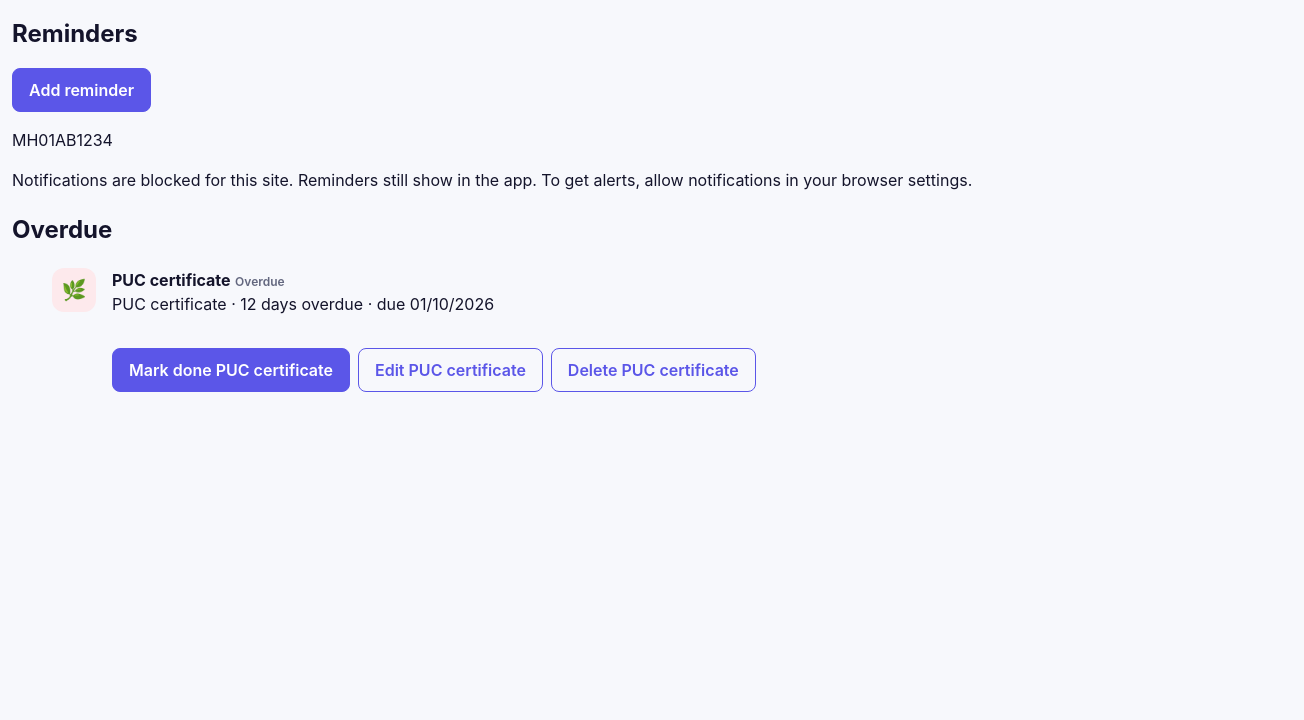
Scenario: Mark done — TC-REM-03 › records ₹100 under PUC certificate, dated today, and marks the reminder done
Click the button "Mark done PUC certificate". click: (231, 370)
box: [112,348,350,392]
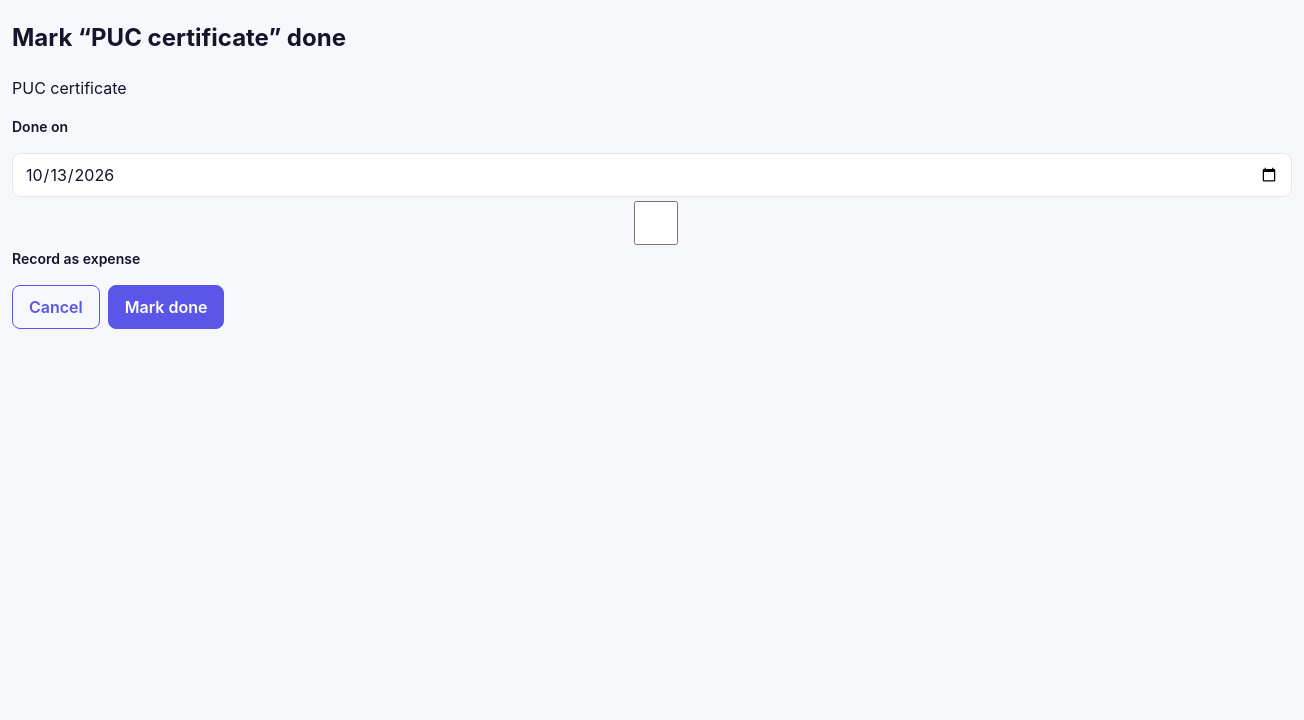
Click the checkbox labelled "Record as expense". click: (654, 223)
box: [16,201,1292,245]
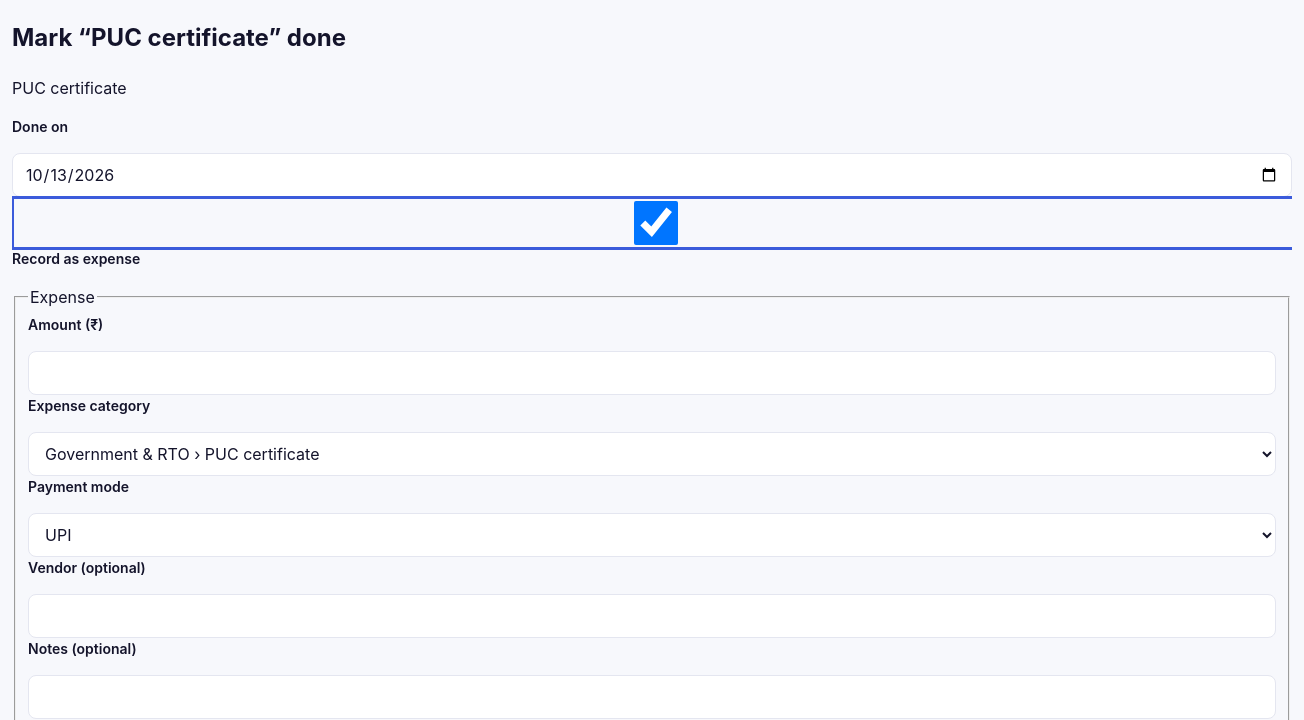
Type "100" into the field labelled "Amount (₹)". click: (652, 373)
box: [28,351,1276,395]
(page scrolled)
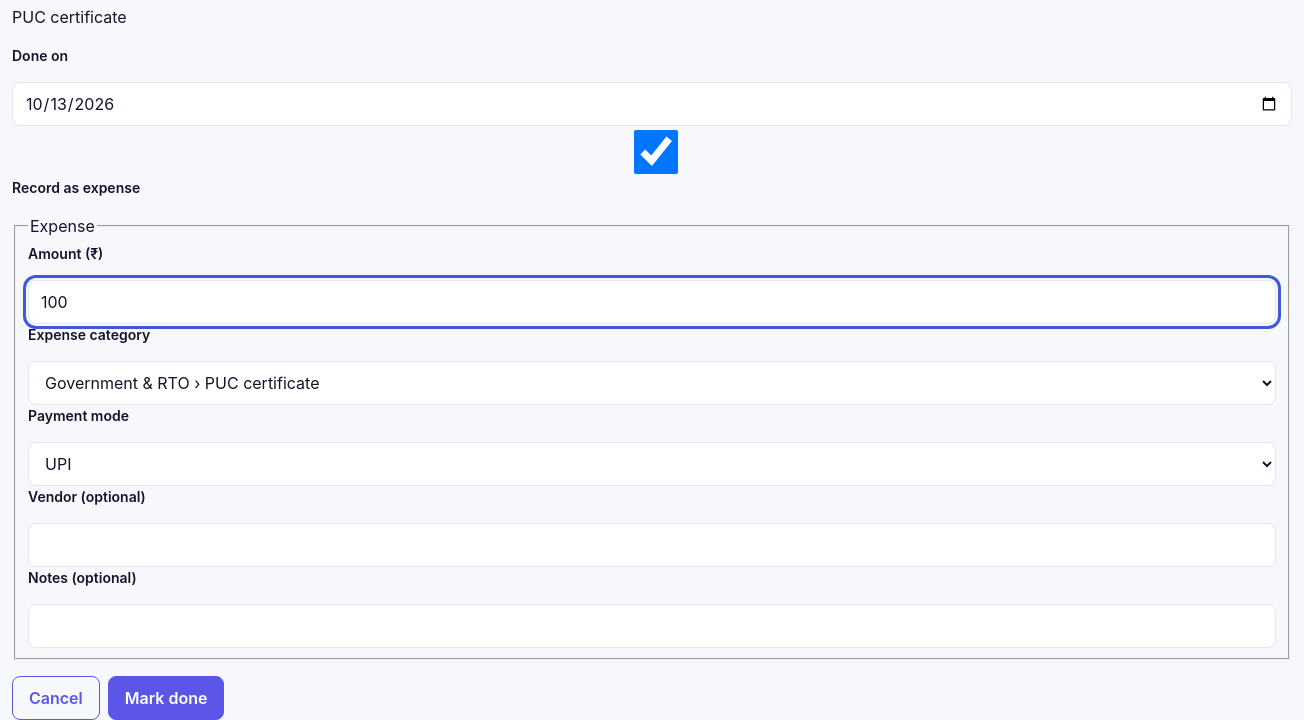
Expected: the dropdown labelled "Expense category" shows "Government & RTO › PUC certificate", [28,361,1276,405]
Click the button "Mark done". click: (166, 698)
box: [108,676,224,719]
(page scrolled)
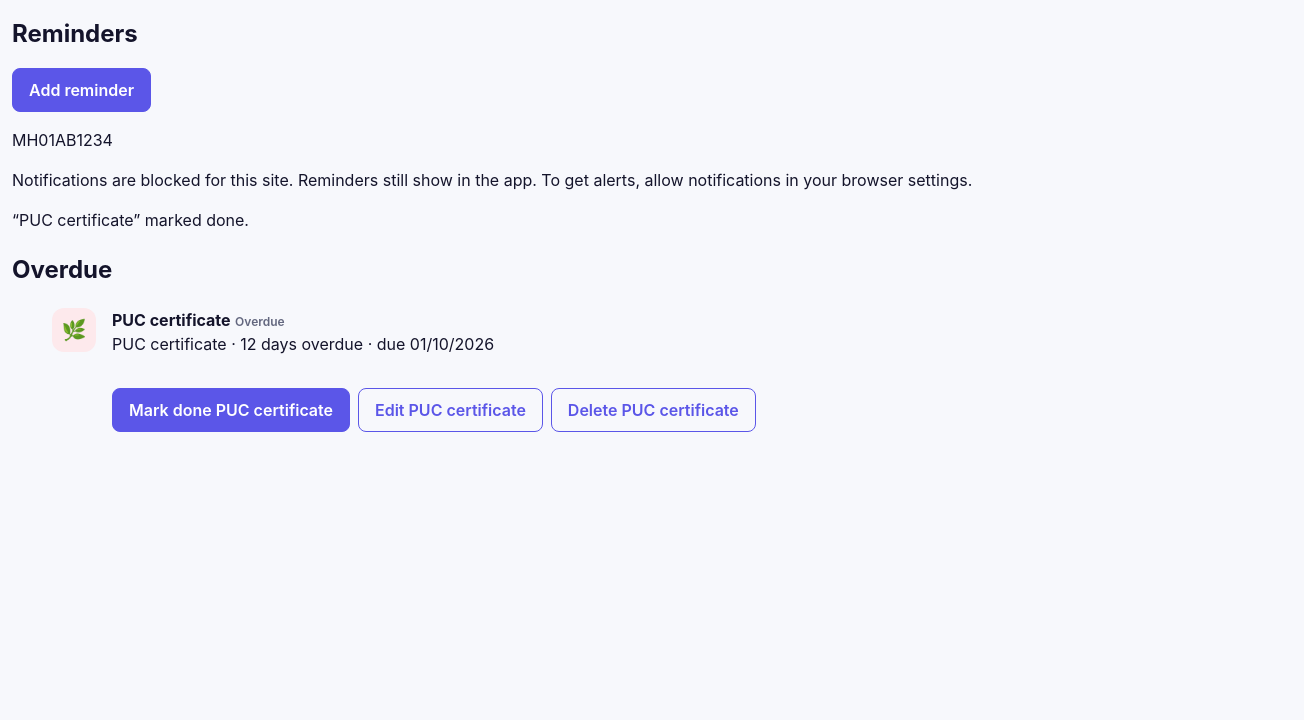
Expected: the message reads "“PUC certificate” marked done.", [12,210,249,230]
